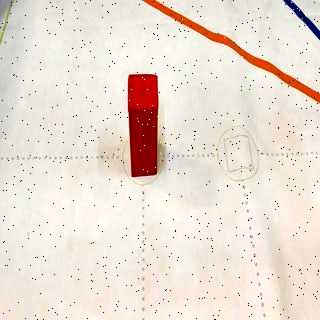redbox: (126, 72, 158, 178)
